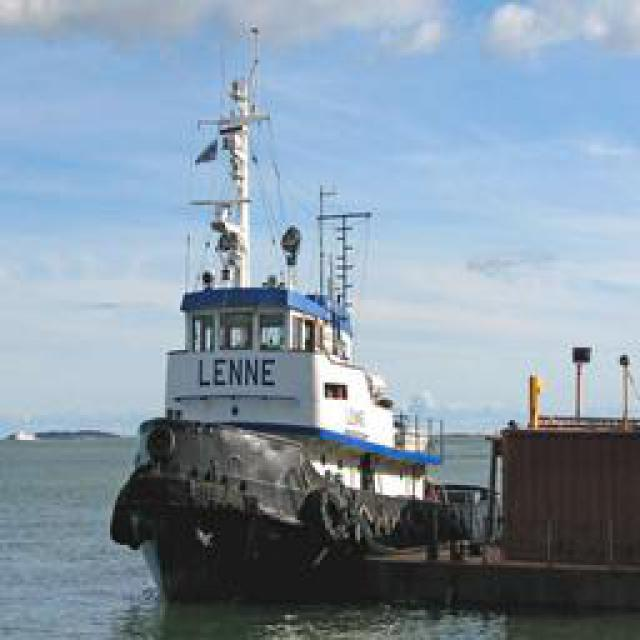Ship: (113, 11, 451, 604)
